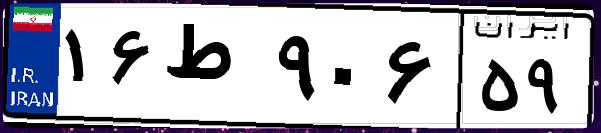0: (330, 28, 385, 110)
1: (57, 26, 110, 100)
5: (475, 38, 525, 113)
6: (385, 28, 445, 110), (110, 28, 158, 98)
9: (270, 28, 330, 110), (525, 38, 570, 115)
ط: (158, 20, 270, 120)
